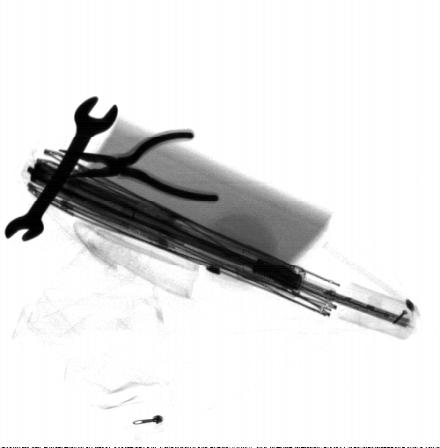Pliers: (57, 126, 222, 205)
Wrench: (5, 94, 119, 242)
